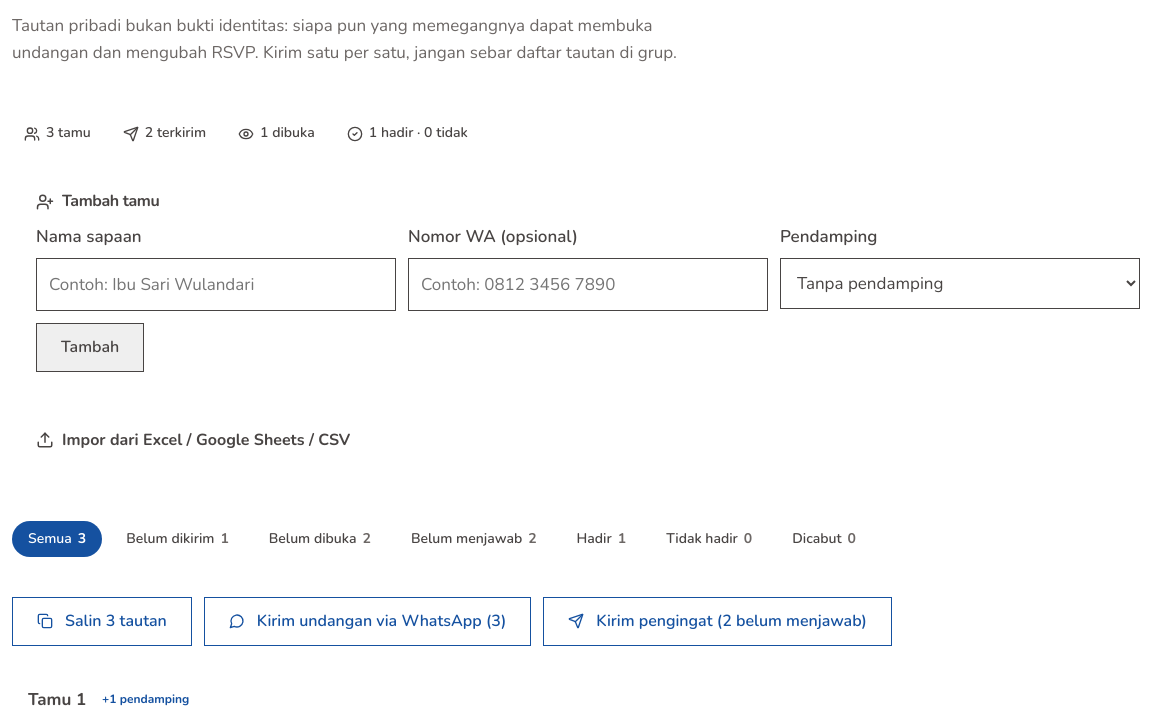
sends WhatsApp invitations one guest at a time and records each send
Click the button "Kirim pengingat (2 belum menjawab)": (718, 621) 543,597 -> 892,646
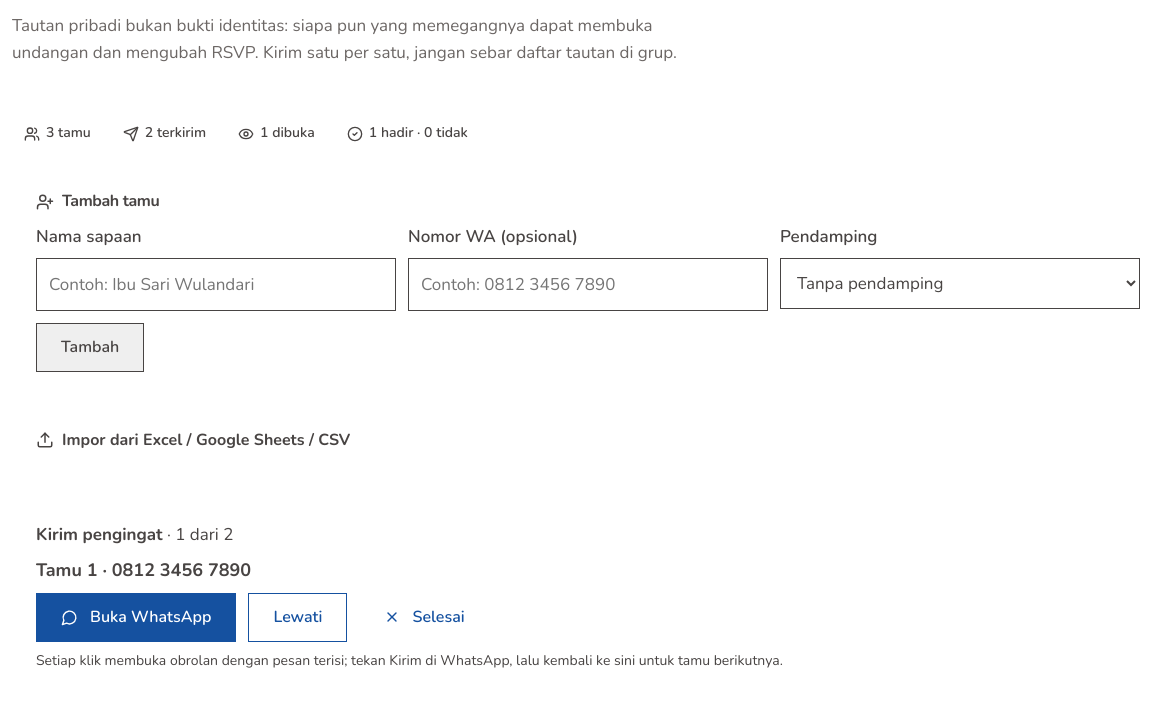
Now the element named "Kirim WhatsApp berurutan" shows "1 dari 2", box 36,523 -> 783,670
Click the link "Buka WhatsApp": (136, 617) 36,593 -> 236,642
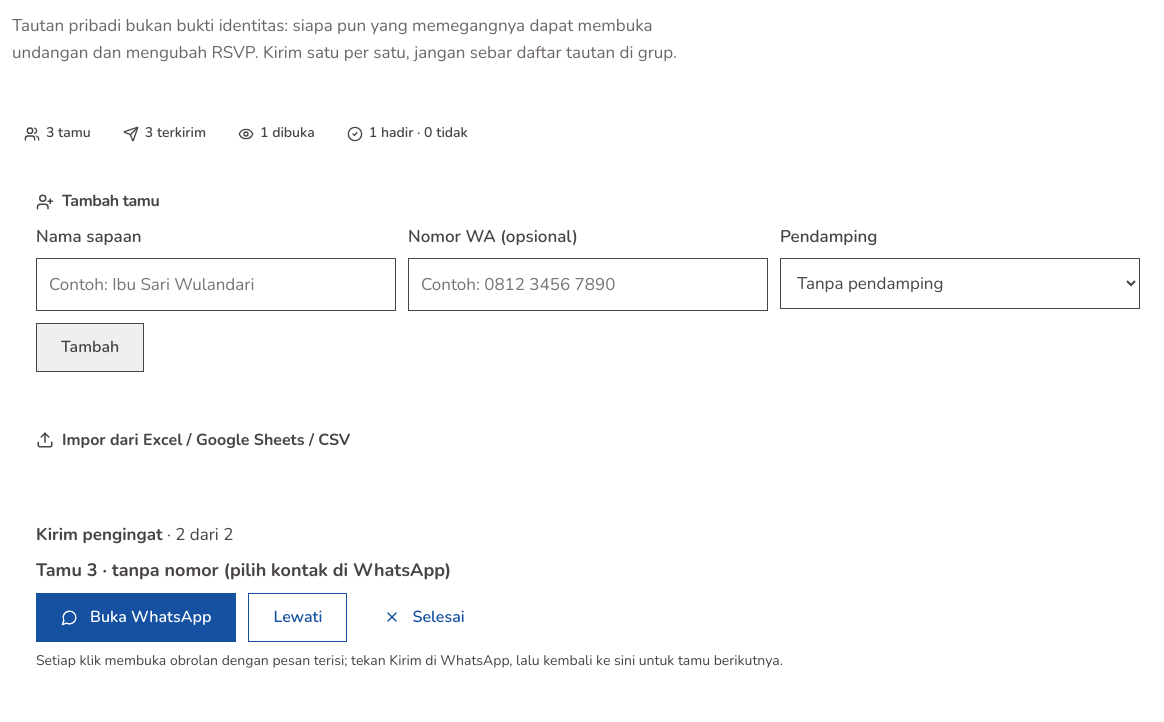
Now the element named "Kirim WhatsApp berurutan" shows "2 dari 2", box 36,523 -> 783,670
